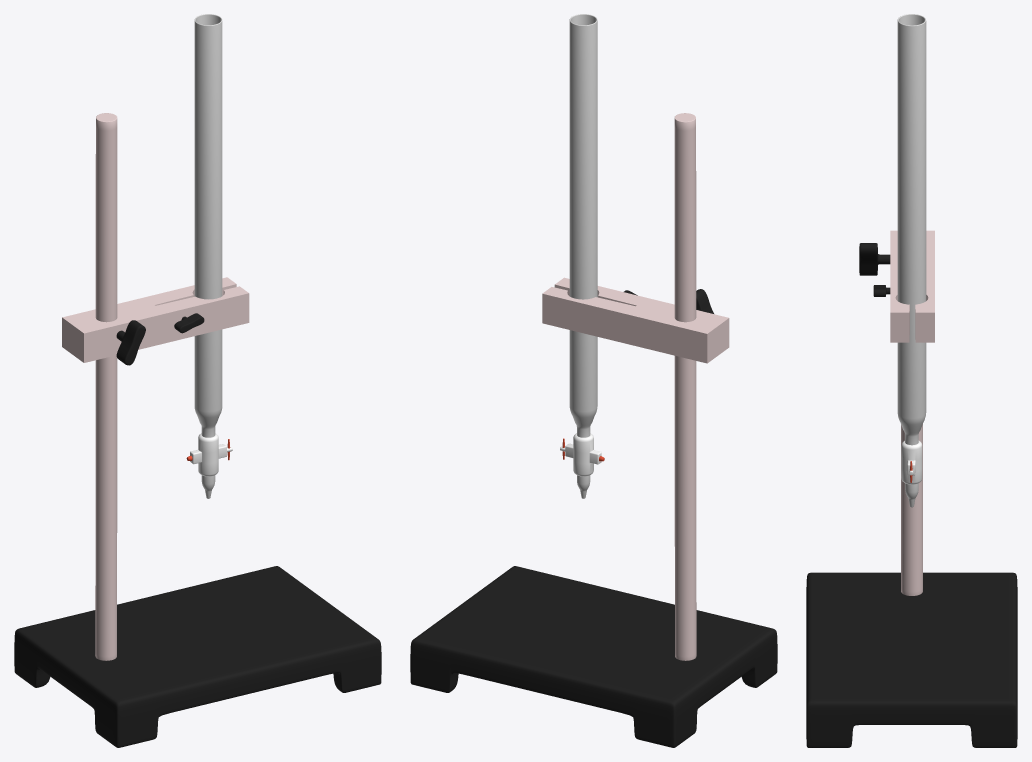
The model's file is titration_stand.fbx.
3 views of the same model, side by side, from view 1: azimuth 30°, elevation 25°; view 2: azimuth 150°, elevation 25°; view 3: azimuth 270°, elevation 25° (orthographic).
Parts seen in each view (by area): view 1: polySurface2, polySurface1, Cylinder, pCube4, Cylinder.001, polySurface5; view 2: polySurface2, polySurface1, Cylinder, pCube4, Cylinder.001; view 3: polySurface2, Cylinder, pCube4, polySurface1, Cylinder.001, polySurface5.
Boxes of the visible parts, bbox=[...] form: polySurface2: bbox=[14, 566, 381, 747]; polySurface1: bbox=[95, 113, 117, 660]; Cylinder: bbox=[194, 14, 222, 498]; pCube4: bbox=[62, 277, 249, 362]; Cylinder.001: bbox=[190, 433, 226, 476]; polySurface5: bbox=[116, 320, 145, 365]; polySurface2: bbox=[410, 566, 777, 747]; polySurface1: bbox=[674, 113, 696, 660]; Cylinder: bbox=[569, 14, 597, 498]; pCube4: bbox=[542, 277, 729, 363]; Cylinder.001: bbox=[565, 433, 601, 476]; polySurface2: bbox=[806, 572, 1017, 747]; Cylinder: bbox=[897, 14, 926, 507]; pCube4: bbox=[890, 230, 934, 342]; polySurface1: bbox=[901, 424, 922, 595]; Cylinder.001: bbox=[901, 440, 922, 484]; polySurface5: bbox=[859, 243, 890, 275].
Size of the model in its own units: 6.38 by 15.11 by 4.33.
